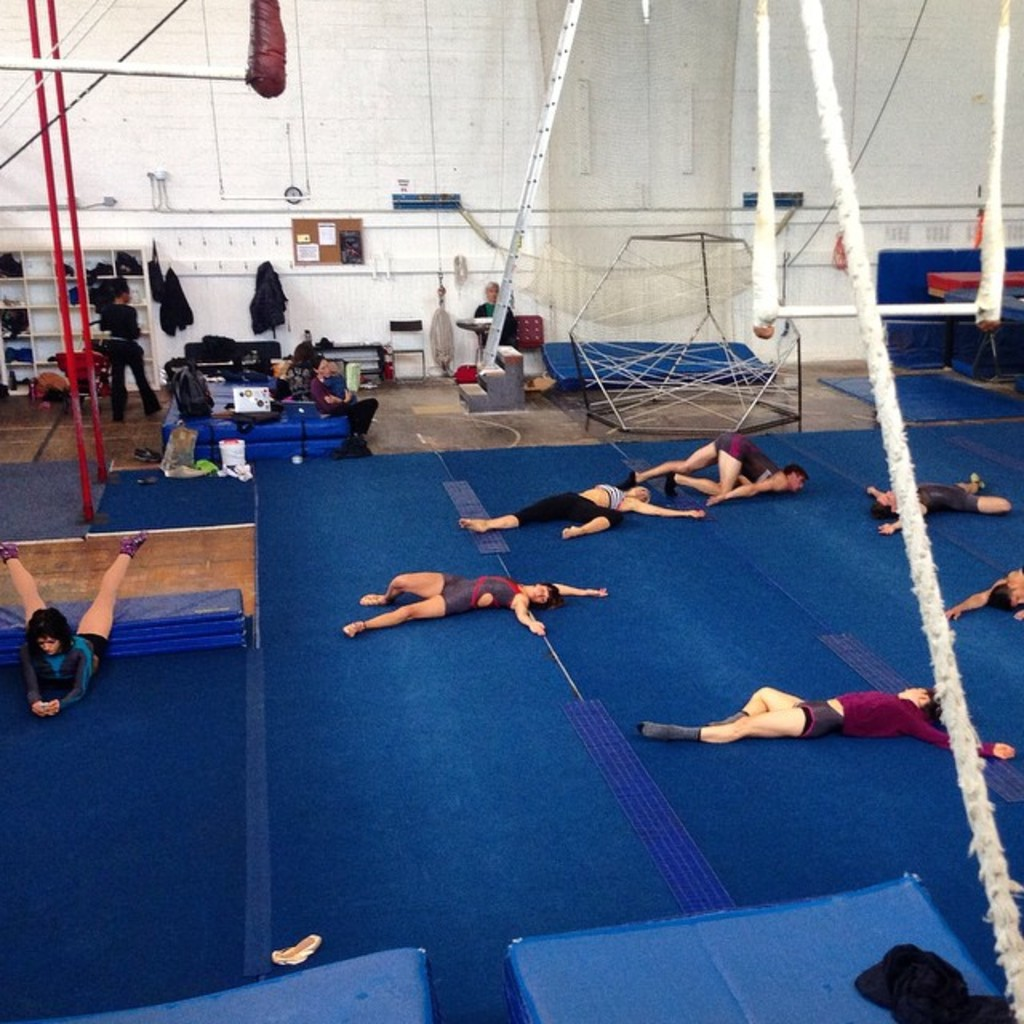Person: (644, 686, 1016, 764), (0, 533, 149, 717), (343, 565, 605, 640), (461, 476, 709, 538), (631, 433, 810, 506), (98, 280, 165, 426), (867, 472, 1011, 536), (308, 357, 380, 448), (953, 568, 1024, 623), (474, 284, 519, 346)
